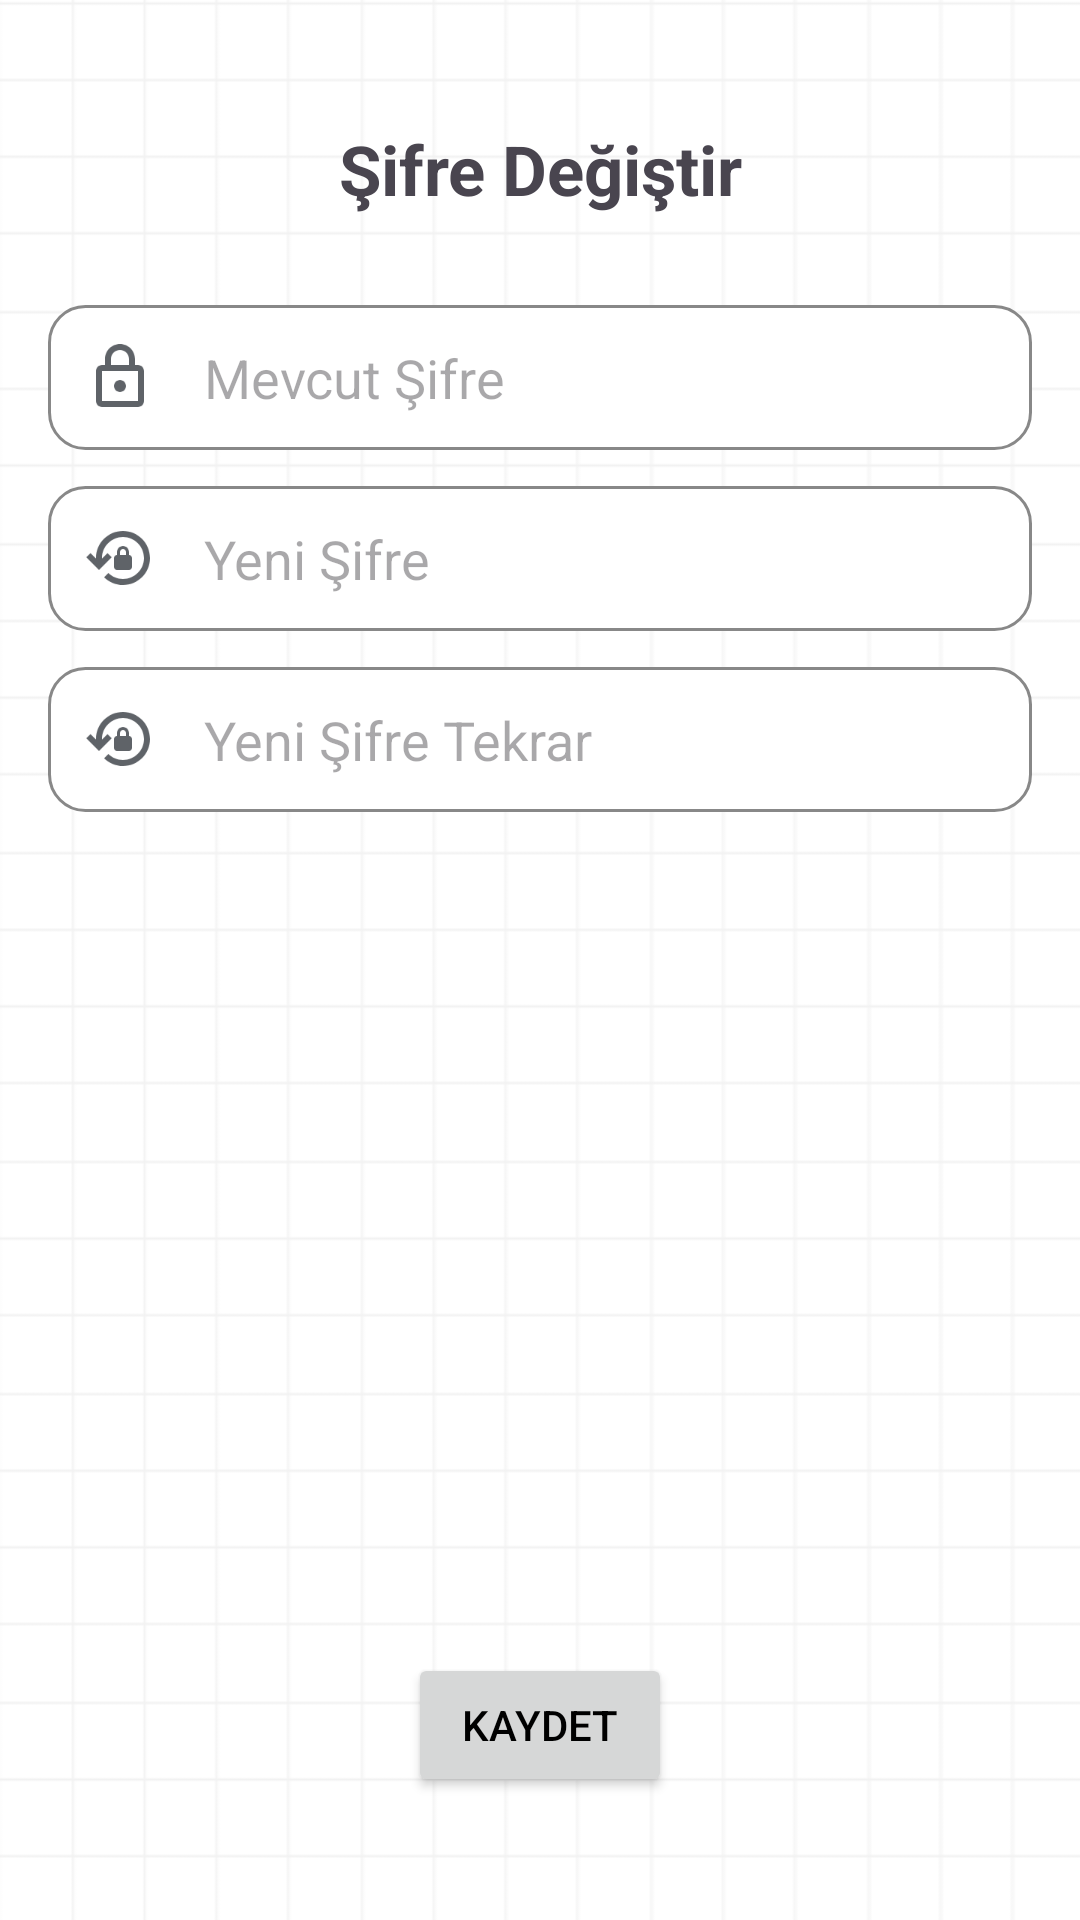

Icons on this 1080px×1920px Android screen, each with the point to tap as (x=x, y=y):
lock: (x=120, y=375)
lock reset: (x=118, y=558), (x=118, y=739)
